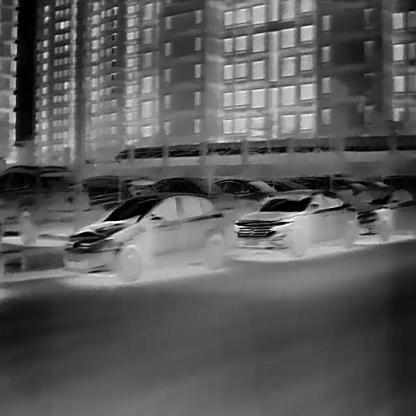car: (62, 191, 228, 280), (234, 189, 359, 256), (0, 164, 86, 244), (72, 173, 157, 217), (356, 188, 416, 239), (214, 176, 282, 210), (156, 177, 227, 208), (296, 174, 362, 196), (263, 177, 304, 198), (382, 172, 414, 190), (360, 180, 388, 194)
